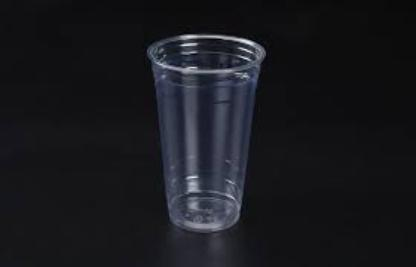Plastic Cup: (147, 34, 265, 232)
